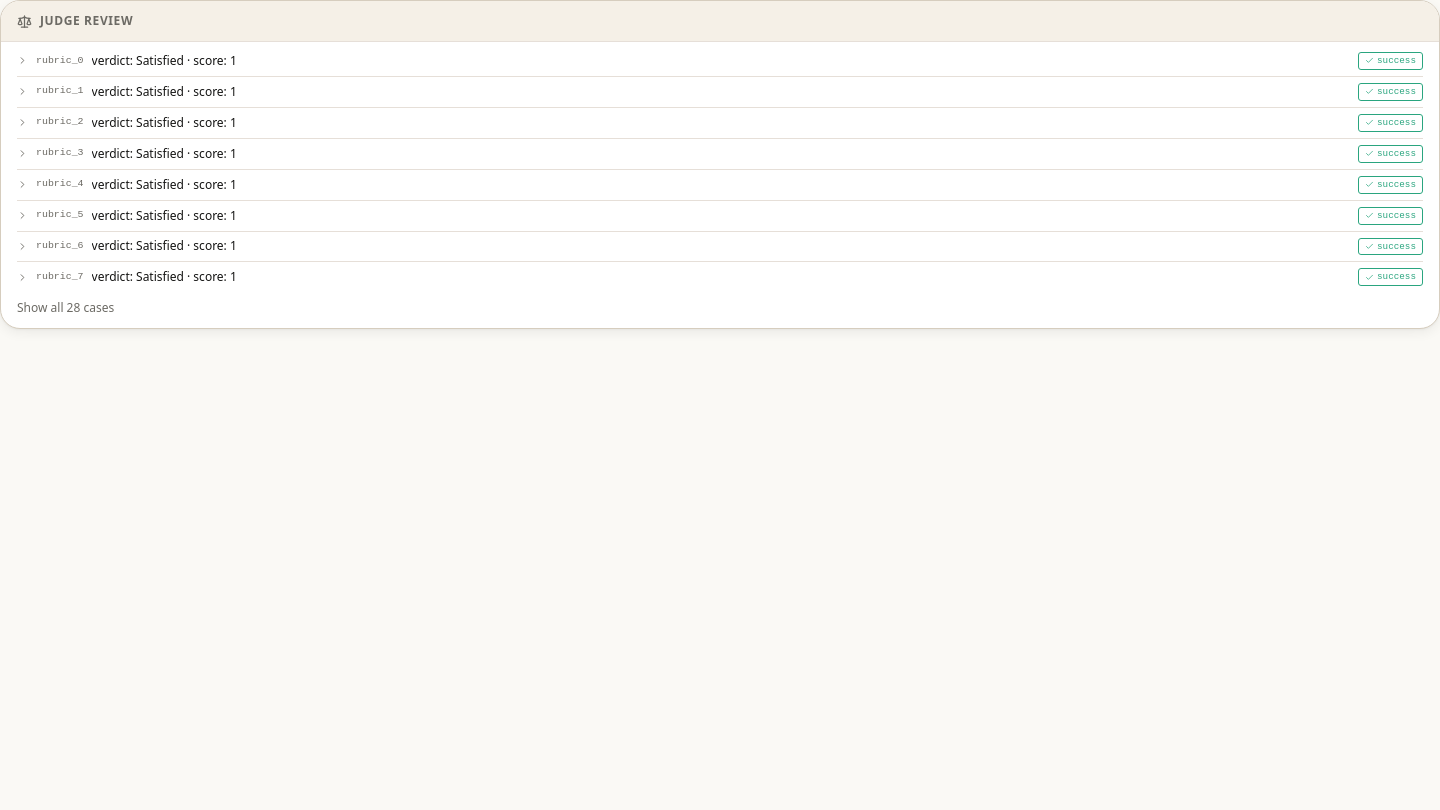
Test: JudgeReviewPanel › collapses a long case list behind a show-all toggle
This screenshot has width=1440, height=810.
Expected: the text "rubric_27" is not shown
Click the button "Show all 28 cases" at [66, 308], box [17,292,114,324]
(page scrolled)
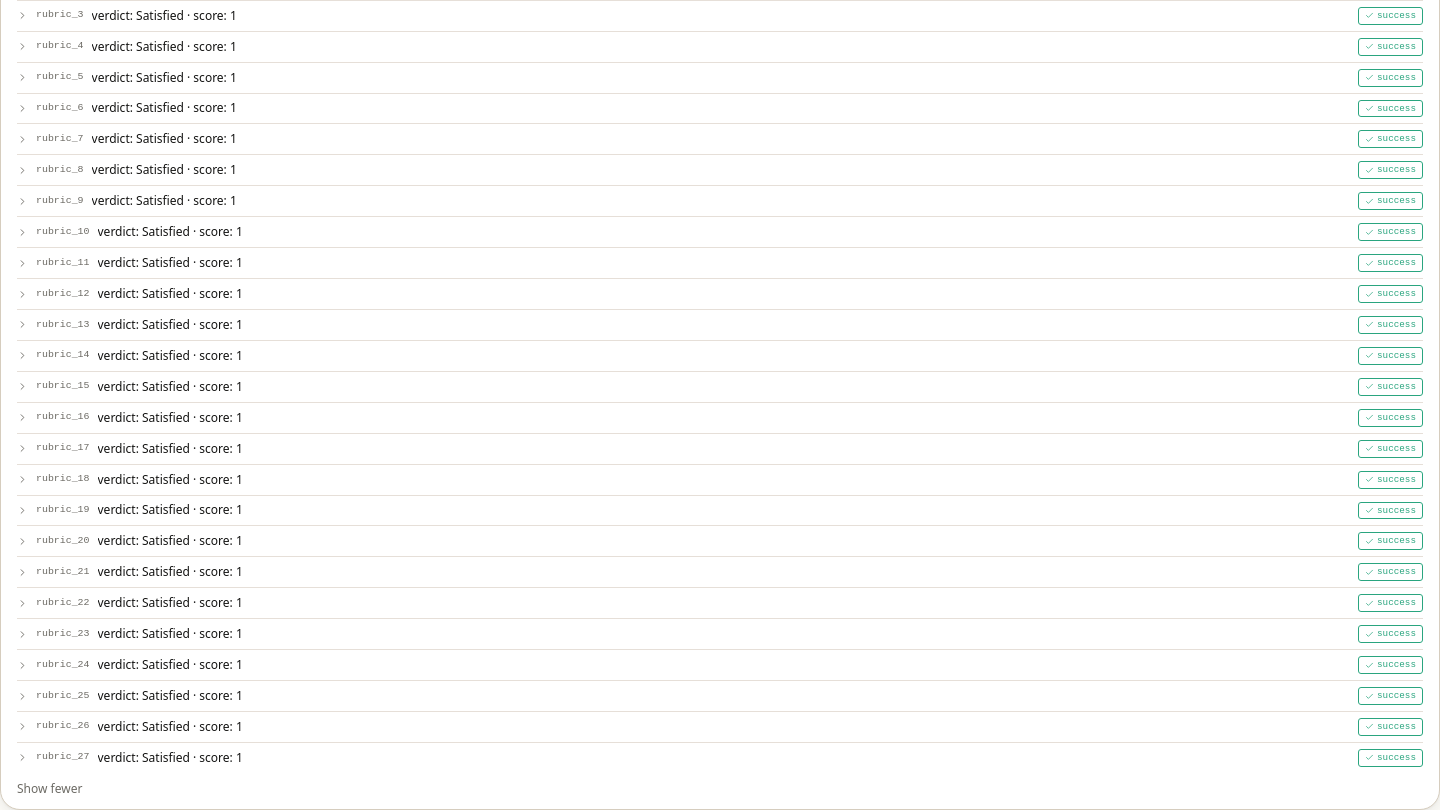
Now the text "rubric_27" is shown, box [36,750,90,765]
Now the button "Show fewer" is shown, box [17,773,82,805]
